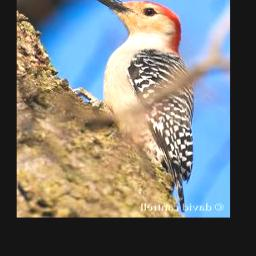Woodpecker: (87, 0, 194, 211)
